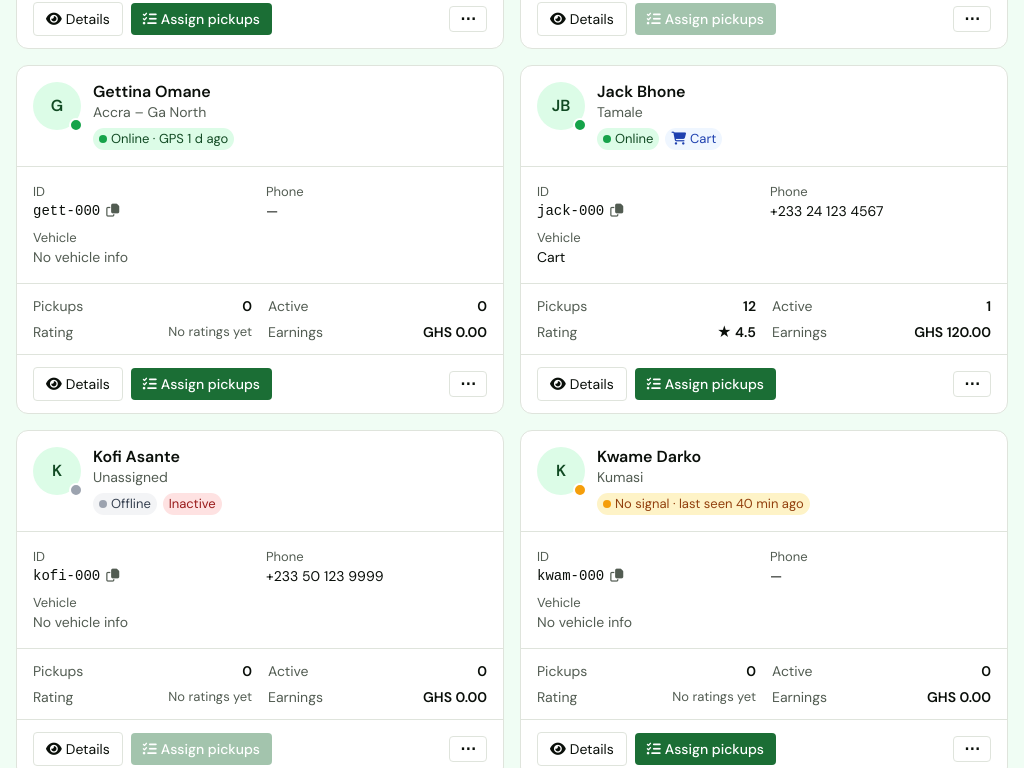
Test: assigns the nearest pending pickups after confirmation
(page scrolled)
Expected: the text with test id "stat-pickups" reads "12", 743,297 -> 756,315
Click the button with aria-label "Assign pickups to Jack Bhone".
click(705, 384)  # box 635,368 -> 776,400
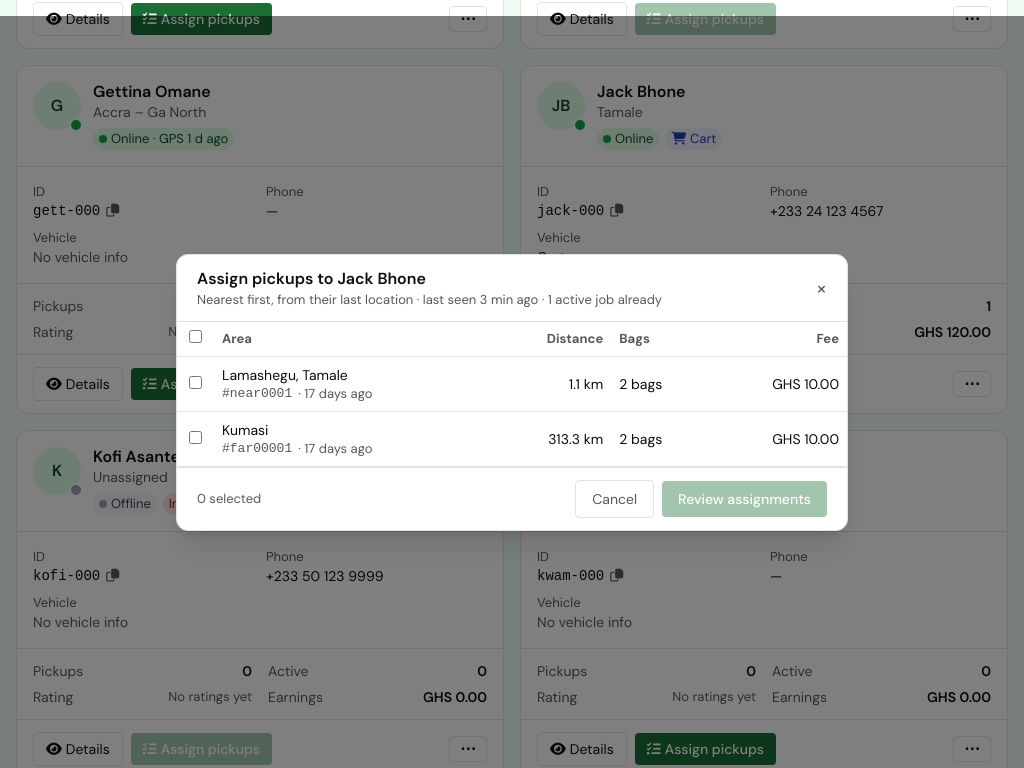
Click the checkbox named "Select all".
click(196, 336)  # box 189,330 -> 202,342
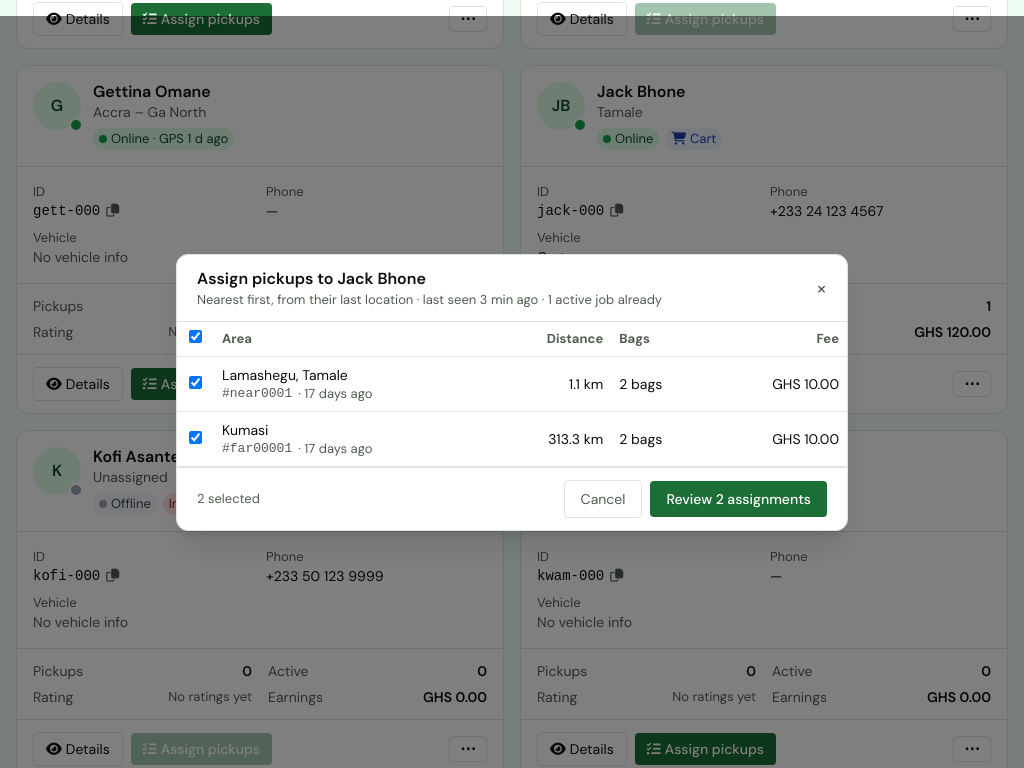
Click the button "Review 2 assignments".
click(739, 498)  # box 650,480 -> 827,516
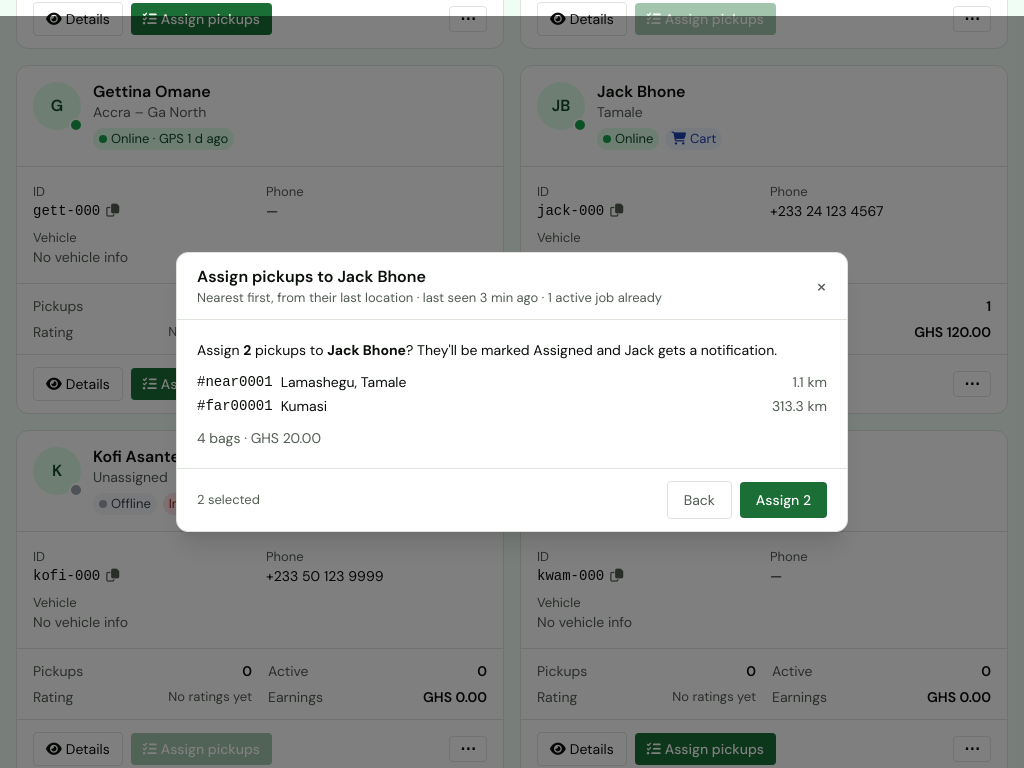
Click the button "Assign 2".
click(783, 500)  # box 740,482 -> 827,518
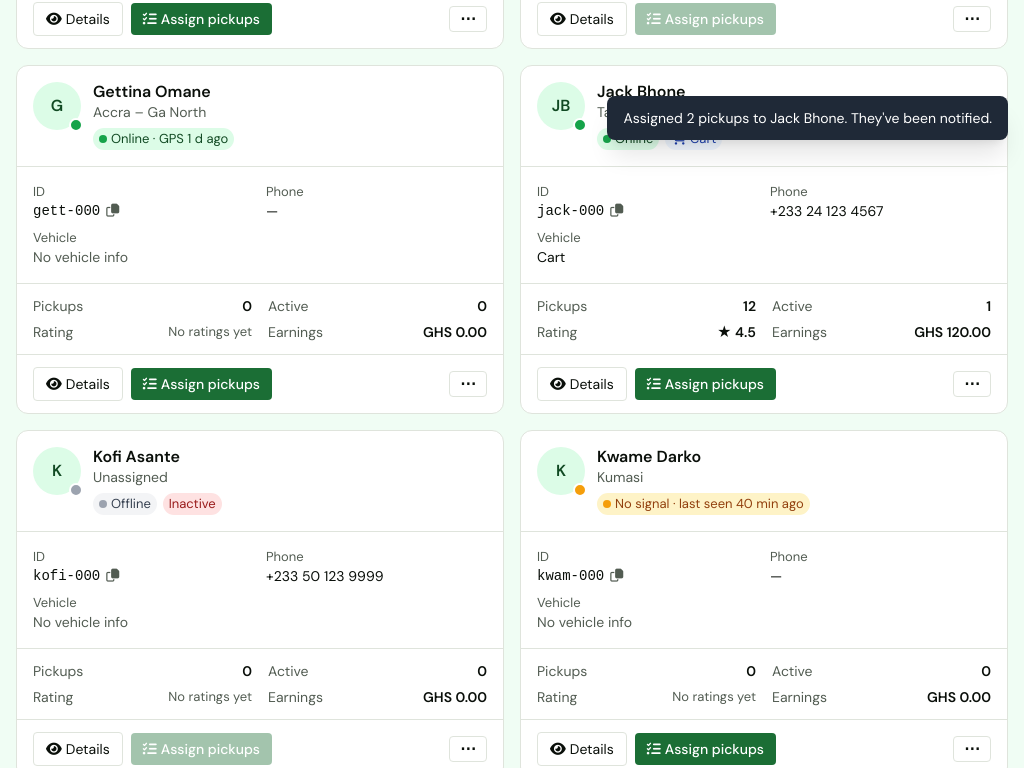
Result: the text "Assigned 2 pickups to Jack Bhone. They've been notified." is shown at 607,96 -> 1008,140
